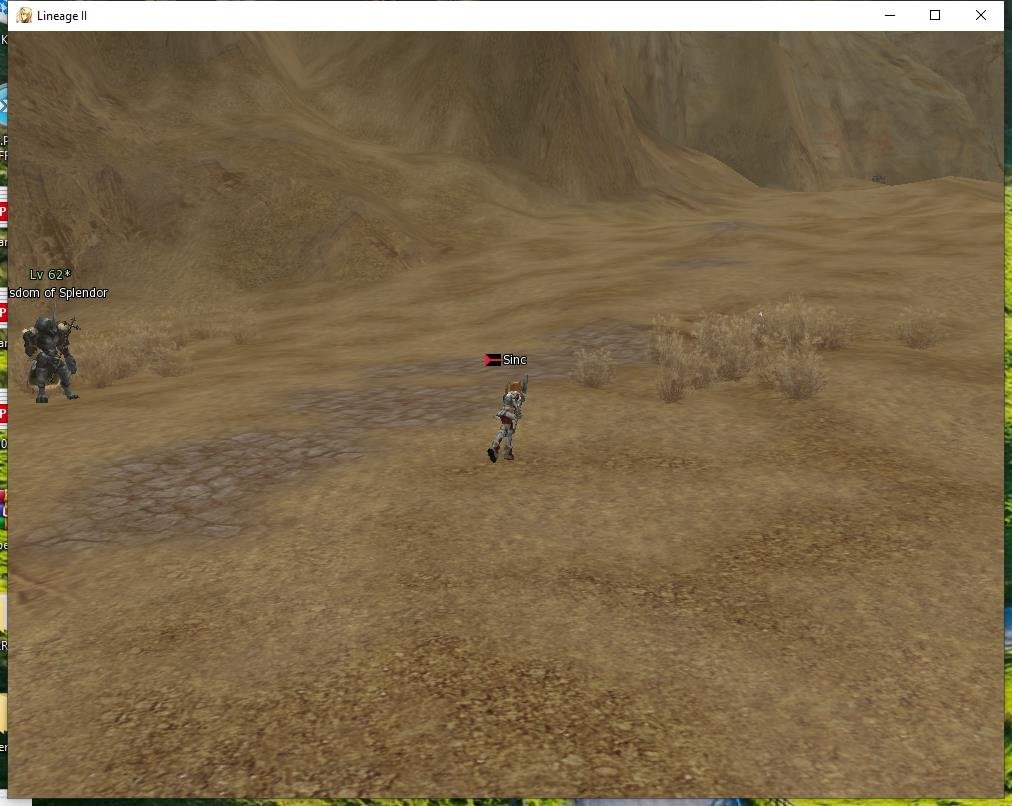monster: (10, 249, 112, 412)
